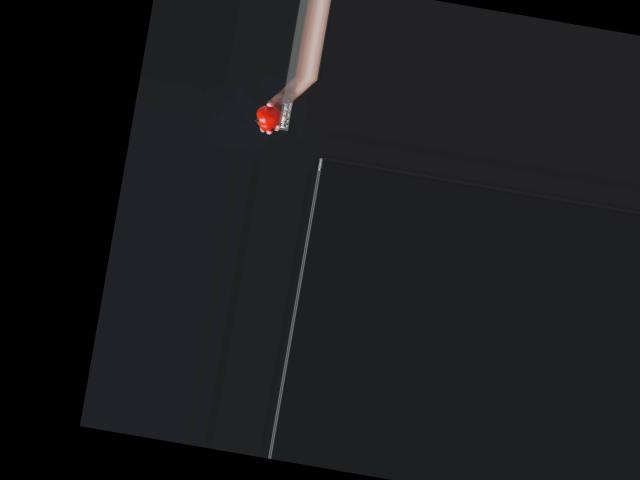tomato: (253, 103, 282, 133)
